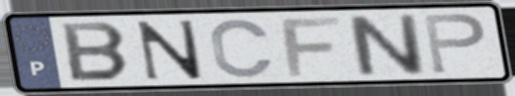B: (58, 21, 133, 83)
C: (207, 17, 278, 80)
F: (277, 14, 344, 79)
N: (342, 12, 430, 78), (134, 18, 206, 82)
P: (419, 12, 489, 76)
